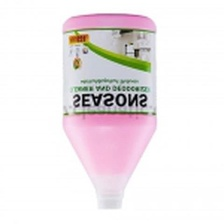cleaning_solution: (57, 10, 162, 212)
